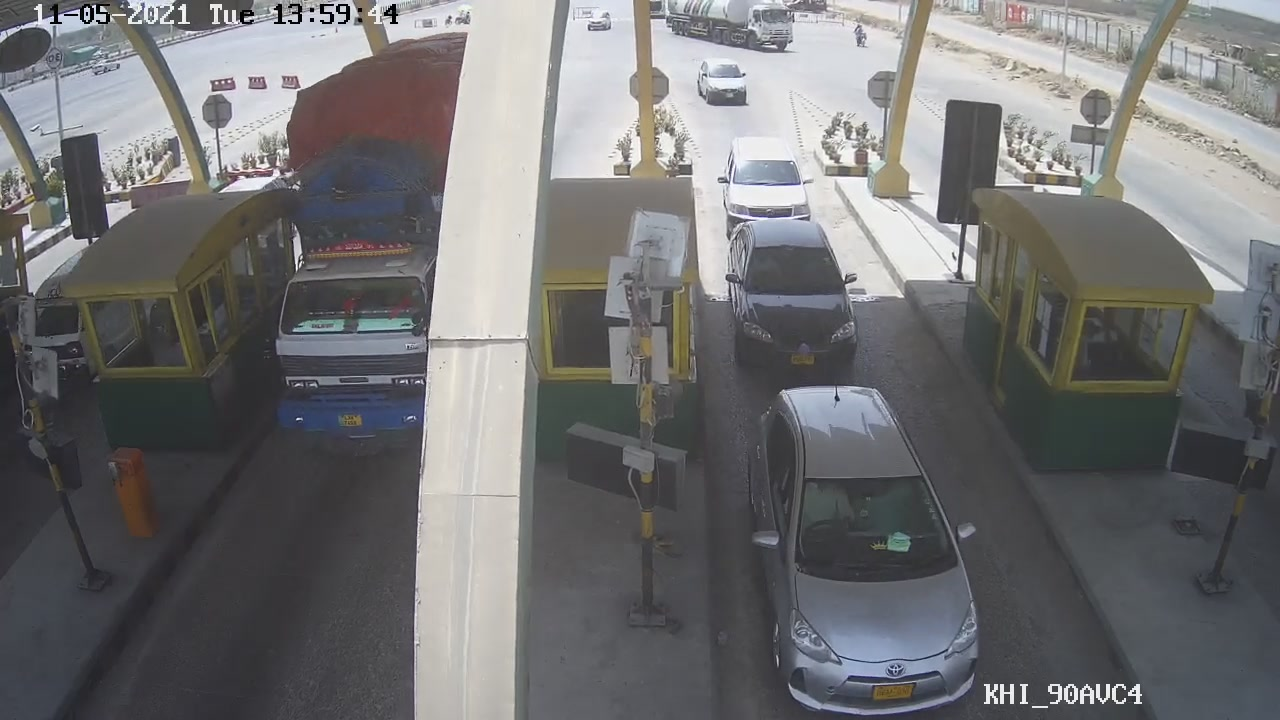F1: (740, 378, 991, 719), (722, 212, 866, 383)
